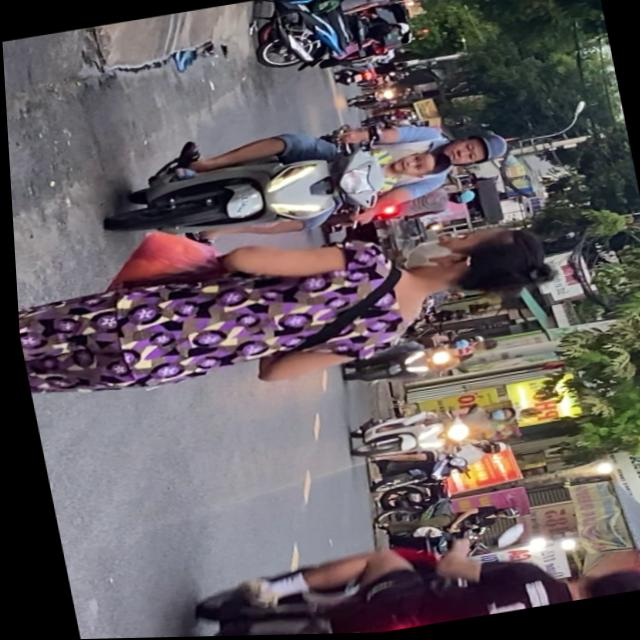helmet: (434, 131, 511, 175), (481, 408, 516, 427)
licenseplate: (96, 95, 523, 268), (143, 505, 640, 638), (339, 396, 520, 467)
motorcyclist: (557, 565, 640, 604), (384, 147, 451, 186)
